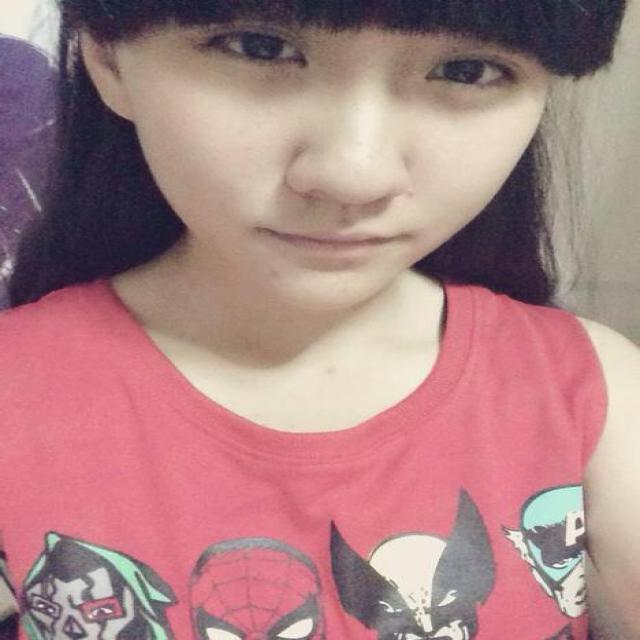vest: (0, 283, 589, 636)
